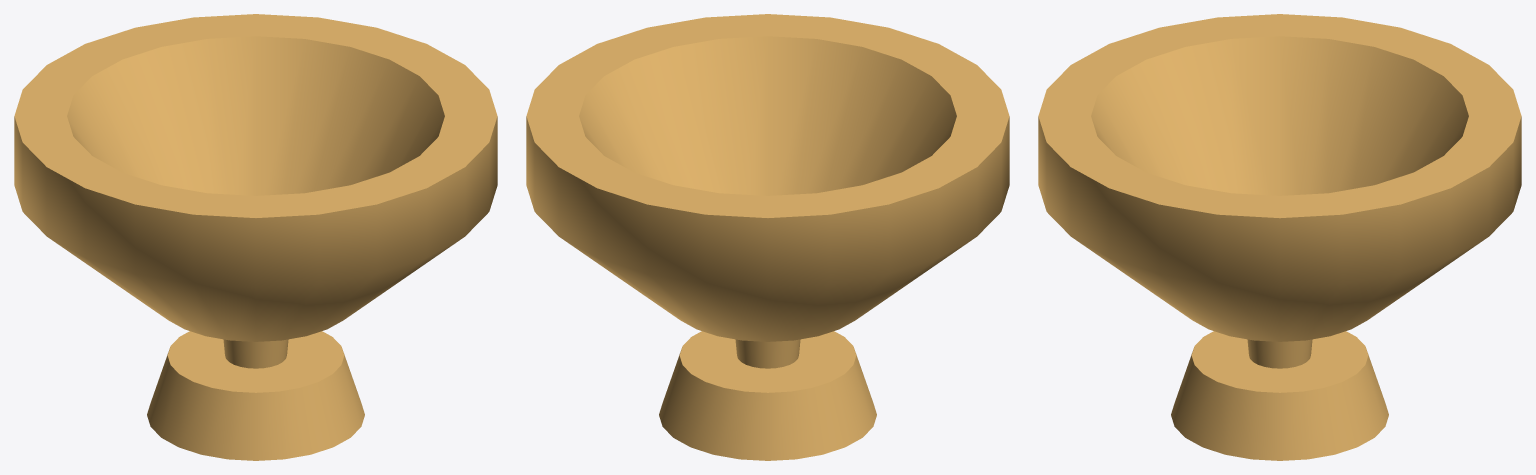
The model's file is detailBowl.obj.
3 renders of one model, left to right at view 1: azimuth 30°, elevation 25°; view 2: azimuth 150°, elevation 25°; view 3: azimuth 270°, elevation 25°, orthographic.
Parts seen in each view (by area): view 1: detailBowl; view 2: detailBowl; view 3: detailBowl.
Part boxes in pixels (x1,y1,x2,y2): detailBowl: (14, 14, 497, 460); detailBowl: (526, 14, 1009, 460); detailBowl: (1038, 14, 1521, 460).
Size of the model in its own units: 0.1587 by 0.1083 by 0.1587.
